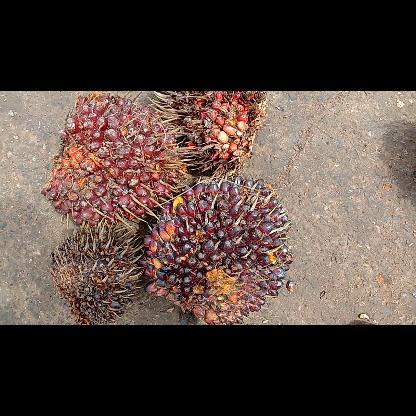Kurang masak: (140, 174, 294, 324)
TBS abnormal: (48, 220, 140, 324)
TBS masak: (38, 91, 182, 230)
Terlalu masak: (148, 91, 270, 177)
